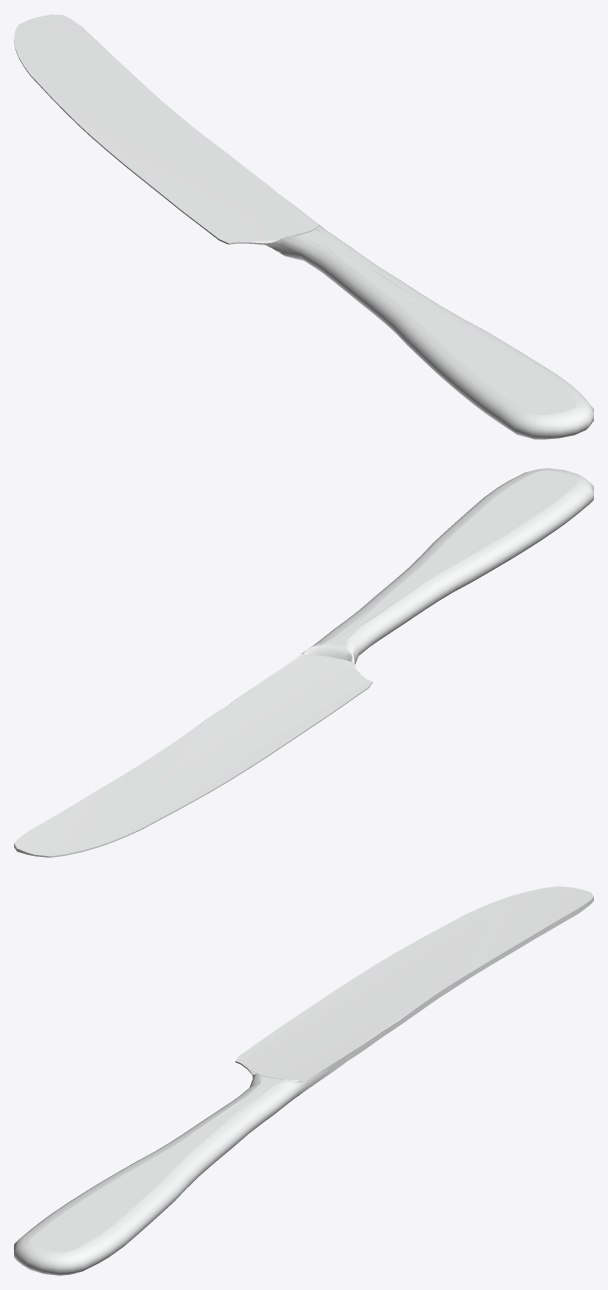
3 views of the same model, one above another, from view 1: azimuth 30°, elevation 25°; view 2: azimuth 150°, elevation 25°; view 3: azimuth 330°, elevation 25° (orthographic). The views are drawn at different scales.
Parts seen in each view (by area): view 1: Butter Knife; view 2: Butter Knife; view 3: Butter Knife.
Boxes of the visible parts, box(x1,y1,x2,y2) form: Butter Knife: box(14, 14, 593, 439); Butter Knife: box(14, 468, 593, 857); Butter Knife: box(14, 886, 593, 1275).
Bounding box in the file's own units: 12.41 × 2.36 × 106.
Materials: 1 (1 with a texture image).
